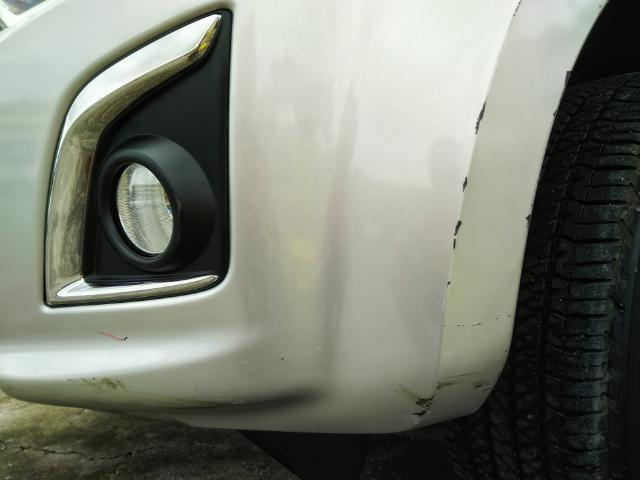Bumper: (339, 15, 565, 437)
